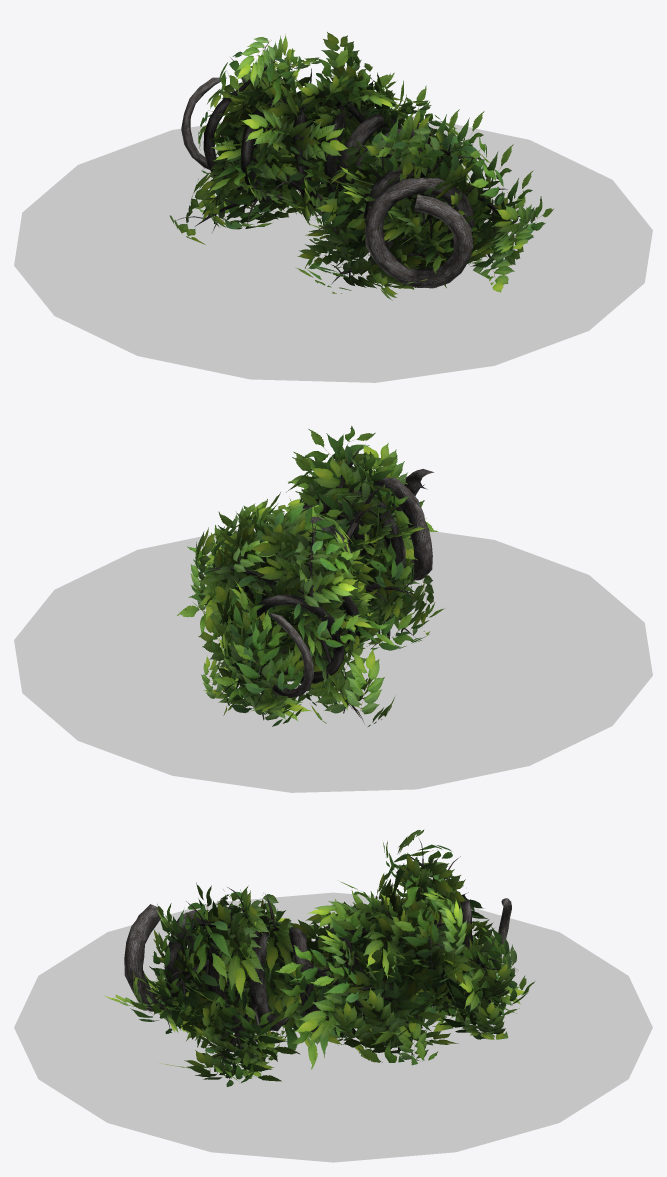
File: occlusion_leaves.glb
3 views of the same model, one above another, from view 1: azimuth 30°, elevation 25°; view 2: azimuth 150°, elevation 25°; view 3: azimuth 270°, elevation 25° (orthographic).
Visible parts, largest first — view 1: ground, tree; view 2: ground, tree; view 3: ground, tree.
Boxes of the visible parts, left/top/right/bottom form: ground: left=14, top=116, right=652, bottom=382; tree: left=169, top=32, right=553, bottom=300; ground: left=14, top=528, right=652, bottom=792; tree: left=177, top=426, right=444, bottom=726; ground: left=14, top=892, right=652, bottom=1162; tree: left=104, top=829, right=534, bottom=1086.
Bounding box in the file's own units: 0.4146 × 0.1849 × 0.4146.
3 materials, 2 textured.
